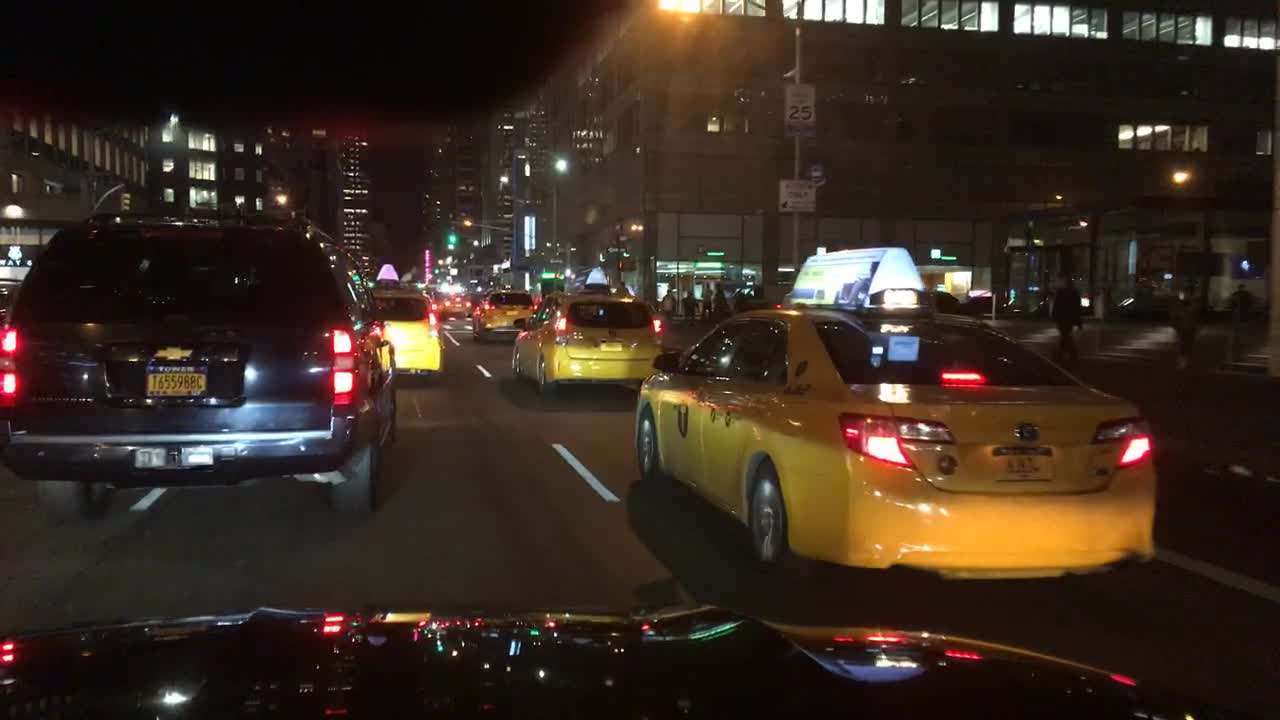car: (631, 244, 1155, 580), (0, 206, 421, 524), (510, 266, 666, 398), (365, 262, 445, 387), (471, 287, 534, 343), (732, 280, 794, 313), (422, 287, 446, 318), (444, 292, 469, 319), (933, 292, 962, 312)
person: (1165, 283, 1202, 375), (1050, 277, 1085, 367), (1227, 282, 1252, 329), (658, 287, 676, 329), (682, 290, 699, 329), (701, 280, 717, 317), (613, 279, 630, 297)
traffic light: (445, 226, 457, 246), (120, 187, 131, 207)
traffic sign: (782, 77, 814, 137), (776, 178, 819, 214), (807, 162, 829, 184)
